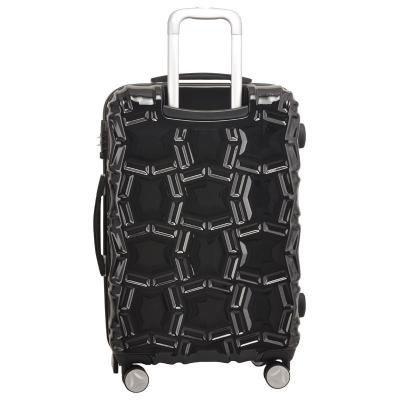suitcase: (94, 0, 309, 391)
